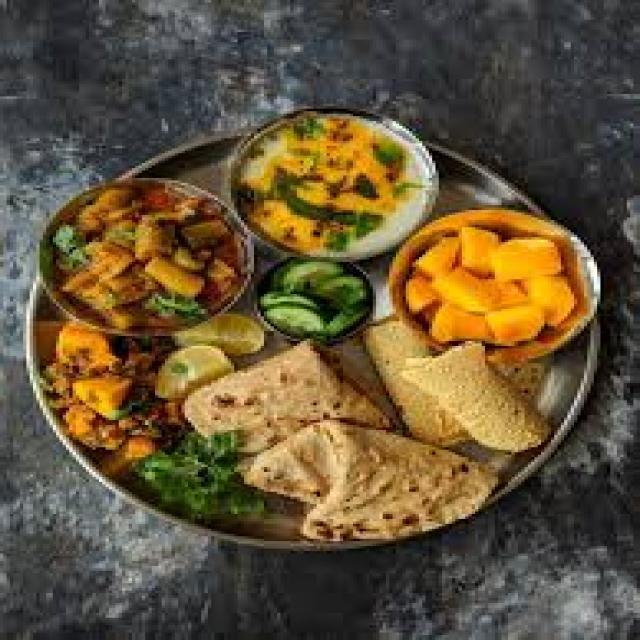papad: (180, 345, 380, 445)
roti: (243, 405, 510, 537)
veg-fry: (30, 170, 258, 338), (222, 102, 426, 261)
